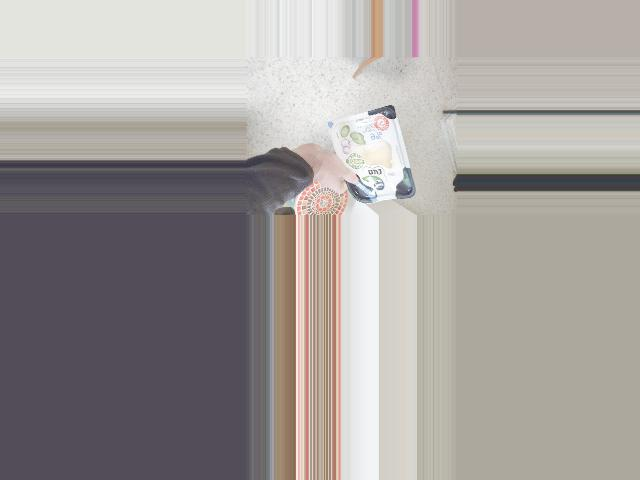cheese: (328, 110, 416, 204)
